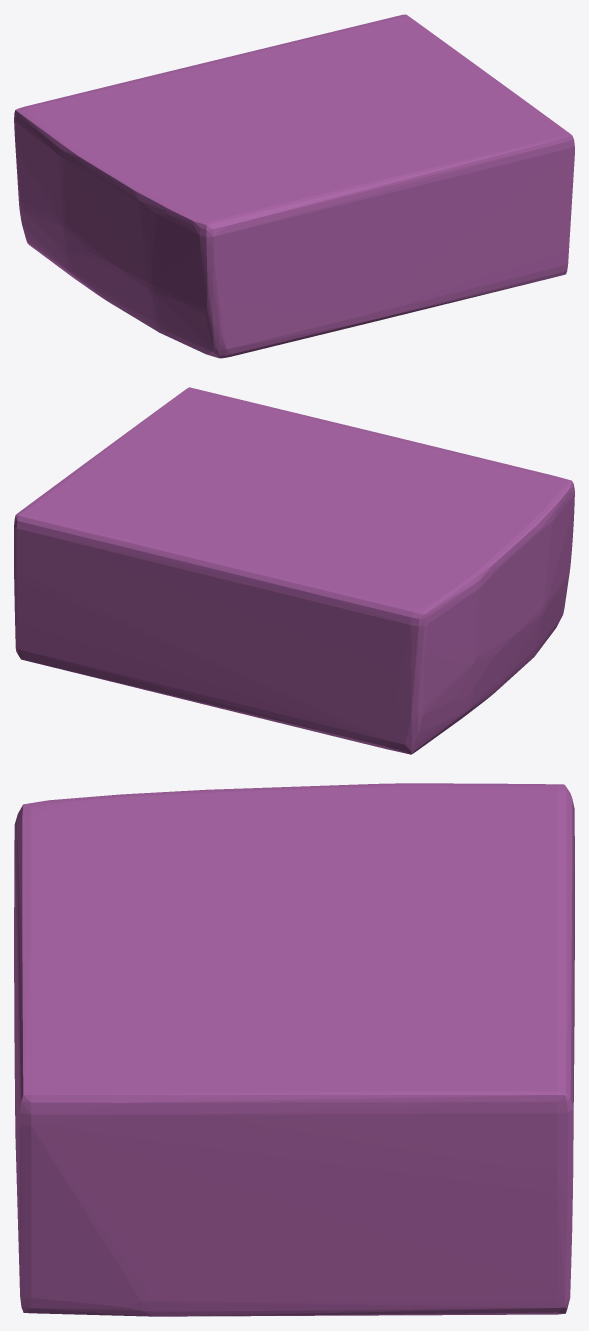
The picture shows the model from 3 angles, top to bottom: view 1: azimuth 30°, elevation 25°; view 2: azimuth 150°, elevation 25°; view 3: azimuth 270°, elevation 25°; orthographic projection. The views are drawn at different scales.
Bounding box in the file's own units: 0.1922 × 0.064 × 0.1443.
